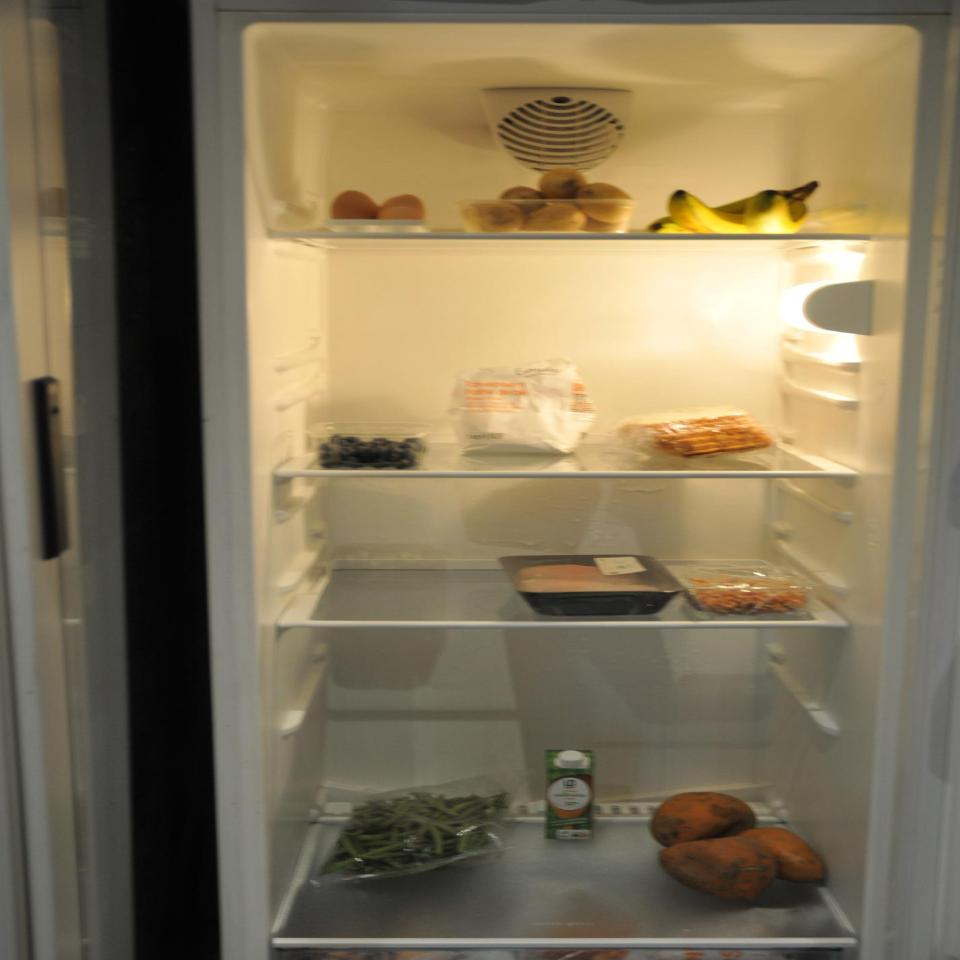Carne pollo: (513, 560, 671, 594)
Huevos: (314, 186, 434, 230)
Plátano: (643, 176, 821, 236)
